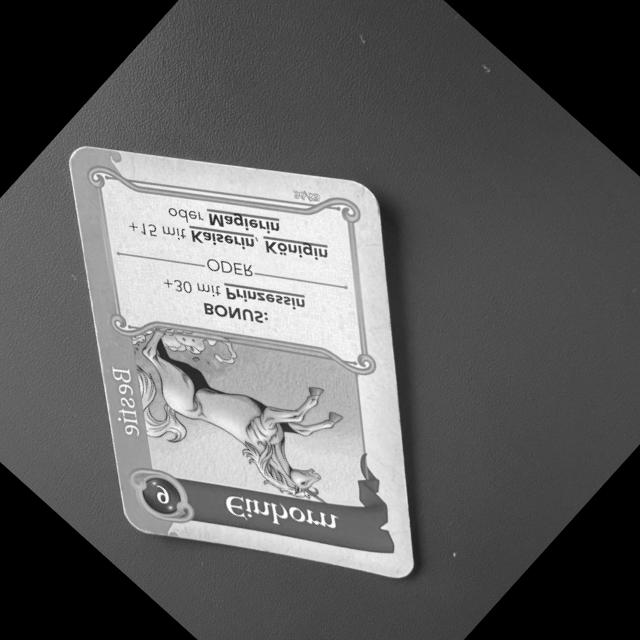Unicorn: (61, 142, 421, 587)
